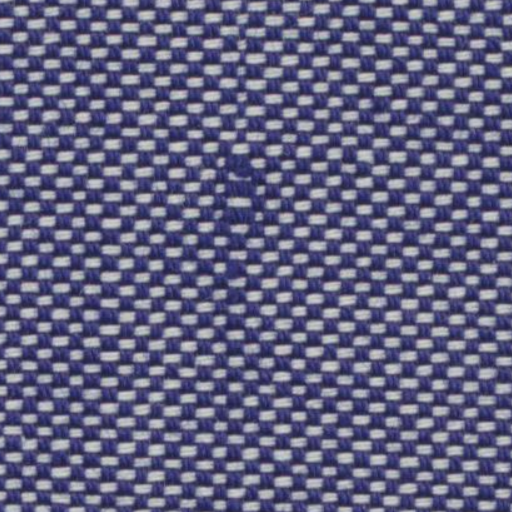DaiSha: (208, 119, 256, 404)
